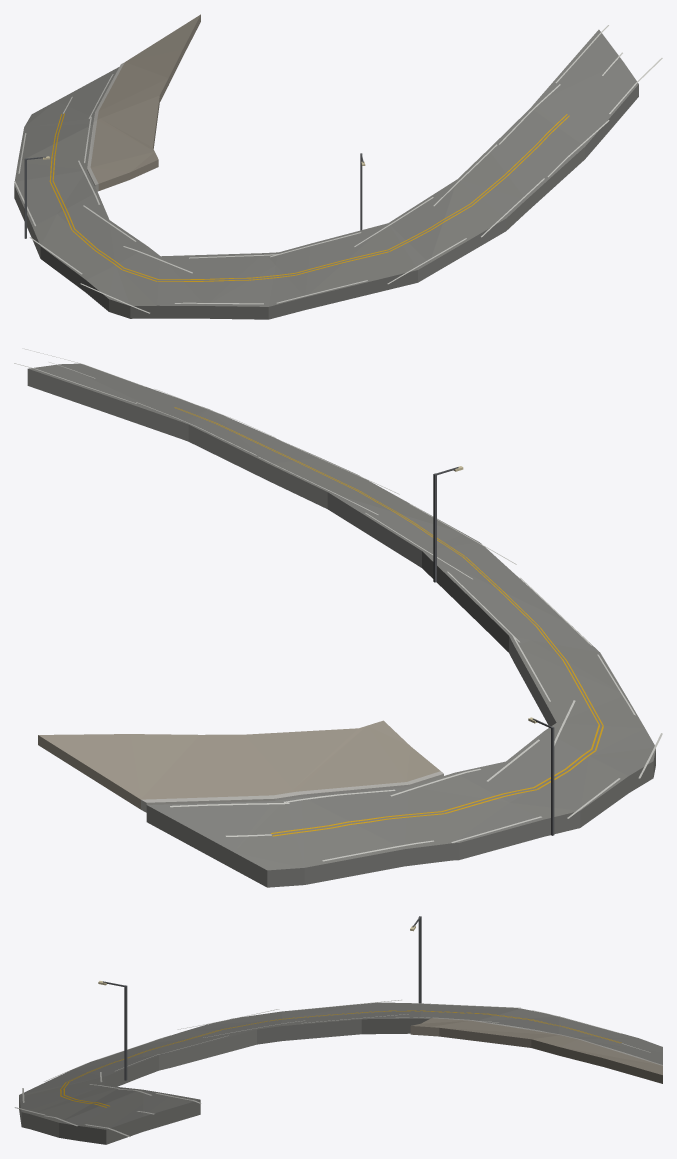
3 renders of one model, top to bottom at view 1: azimuth 30°, elevation 25°; view 2: azimuth 150°, elevation 25°; view 3: azimuth 270°, elevation 25°, orthographic. The views are drawn at different scales.
Bounding box in the file's own units: 51.2 × 16.86 × 46.78.
